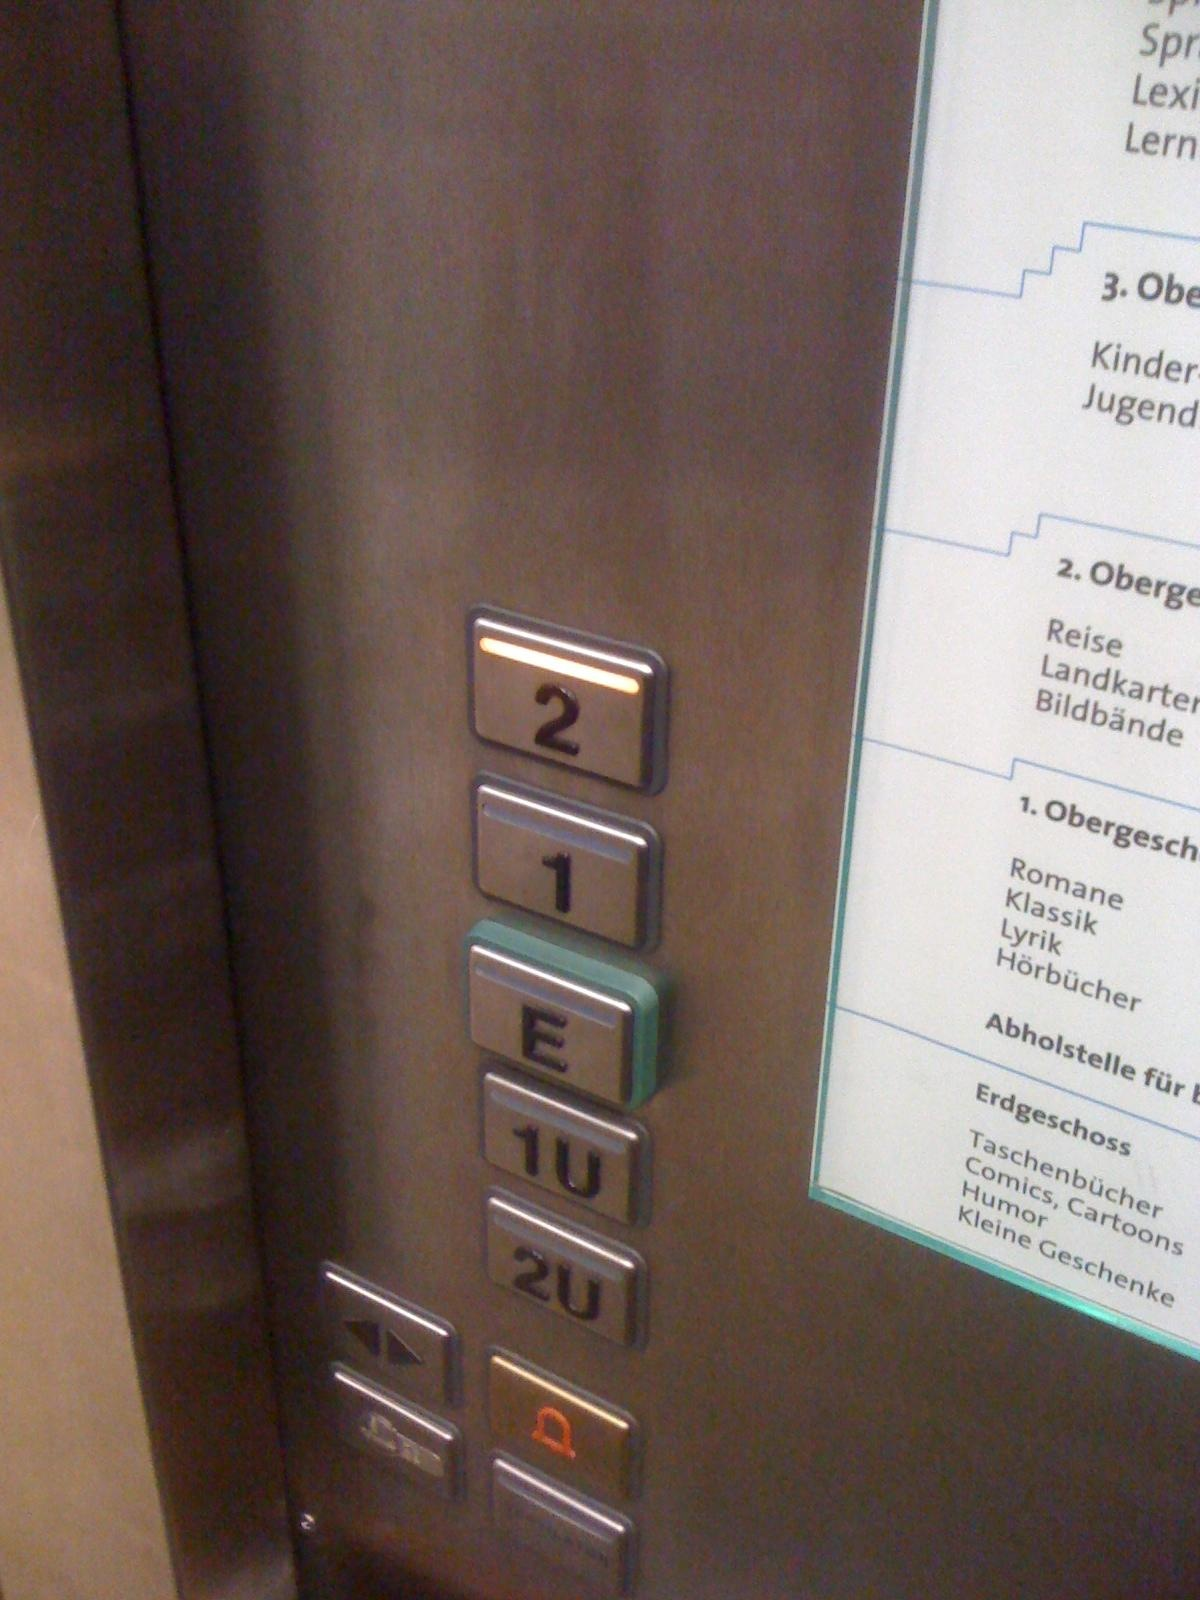1: (465, 772, 666, 954)
1U: (460, 1067, 663, 1243)
2: (466, 598, 669, 797)
2U: (466, 1192, 654, 1352)
E: (461, 926, 666, 1123)
alarm: (474, 1335, 645, 1513)
open: (313, 1254, 468, 1421)
text_blur: (473, 1444, 650, 1600)
unknown: (313, 1353, 466, 1511)
